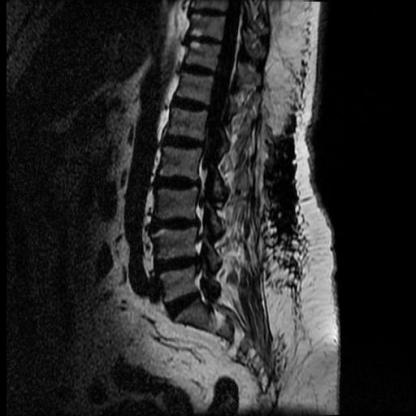Degenerative Disc Diseaserotation: (156, 253, 199, 275)
Disc Bulgerotation: (164, 293, 206, 315), (157, 253, 199, 275), (153, 215, 199, 235), (157, 173, 200, 193), (165, 134, 205, 152)
